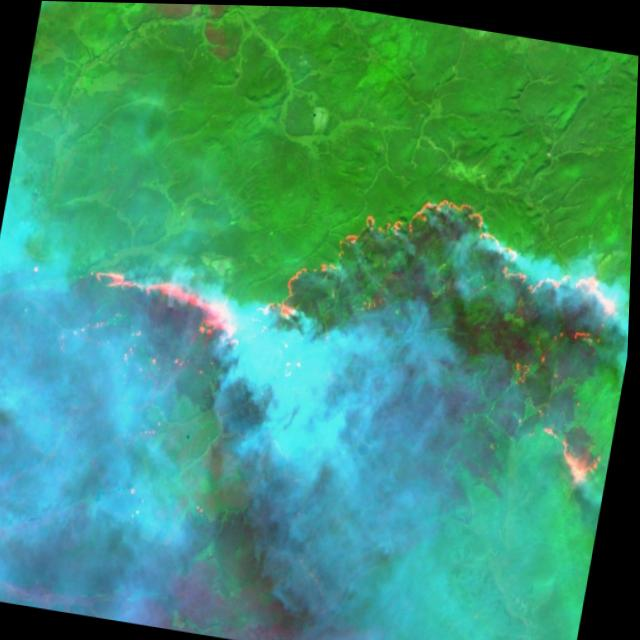fire: (0, 116, 637, 499)
